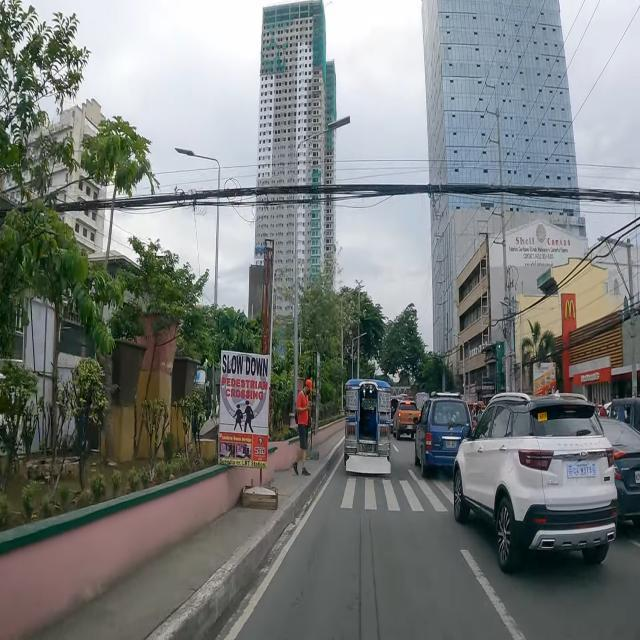bus: (416, 393, 429, 410)
car: (453, 393, 617, 572), (413, 392, 473, 477), (600, 418, 640, 526), (394, 399, 421, 440)
jeepney: (344, 379, 391, 475)
